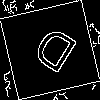D: (25, 25, 80, 83)
